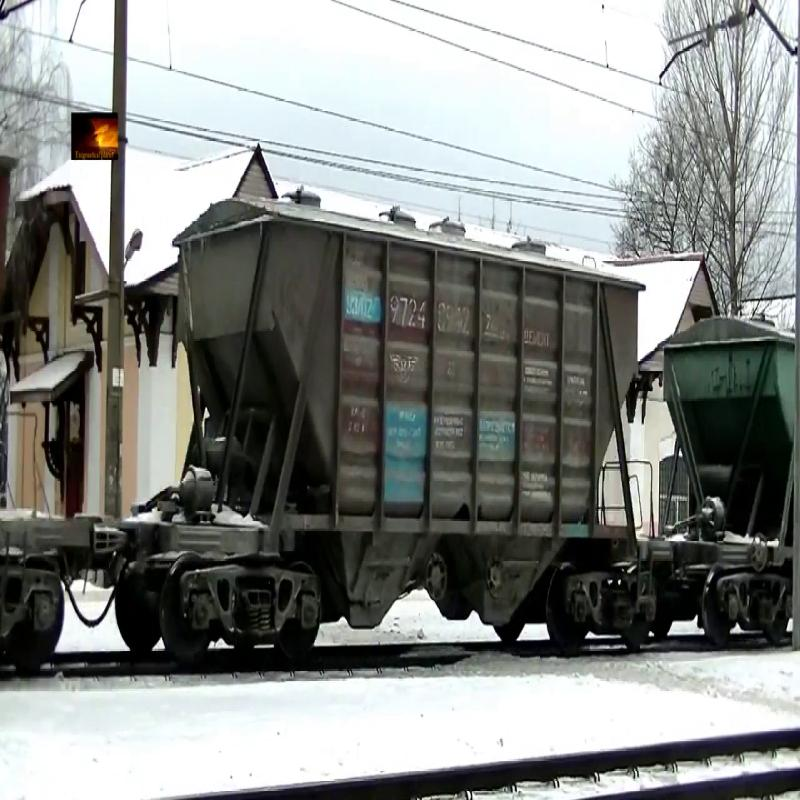train: (162, 203, 648, 649)
